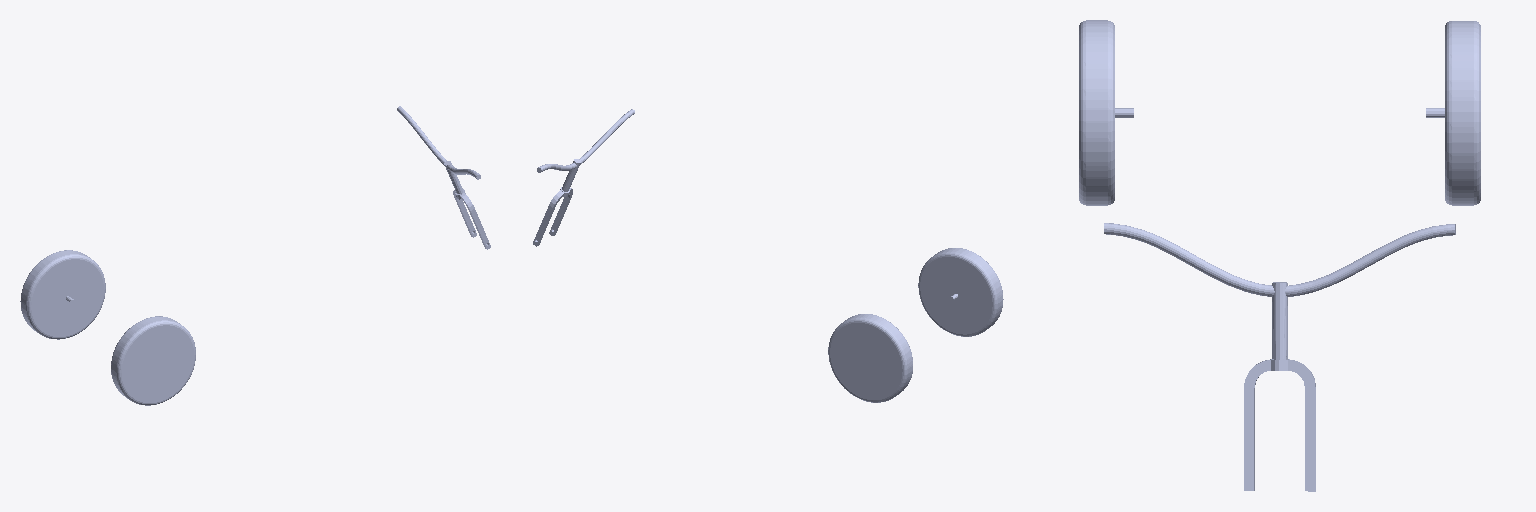
The robot description file, URDF, robot "Assembly_of_rickshaw":
<?xml version="1.0" encoding="utf-8"?>
<!-- This URDF was automatically created by SolidWorks to URDF Exporter! Originally created by [author] ([email redacted]) 
     Commit Version: 1.6.0-1-g15f4949  Build Version: 1.6.7594.29634
     For more information, please see http://wiki.ros.org/sw_urdf_exporter -->
<robot
  name="Assembly_of_rickshaw">
  <link
    name="Chassis">
    <inertial>
      <origin
        xyz="0.0179015432099166 0.00883157016107548 0.555493054780107"
        rpy="0 0 0" />
      <mass
        value="5.94108220023936" />
      <inertia
        ixx="2.86961489353881"
        ixy="-3.21160082509927E-06"
        ixz="-0.289647829977624"
        iyy="3.52332660507633"
        iyz="1.34393979355656E-06"
        izz="1.34842872812582" />
    </inertial>
    <visual>
      <origin
        xyz="0 0 0"
        rpy="0 0 0" />
      <geometry>
        <mesh
          filename="package://Assembly_of_rickshaw/meshes/Chassis.STL" />
      </geometry>
      <material
        name="">
        <color
          rgba="0.792156862745098 0.819607843137255 0.933333333333333 1" />
      </material>
    </visual>
    <collision>
      <origin
        xyz="0 0 0"
        rpy="0 0 0" />
      <geometry>
        <mesh
          filename="package://Assembly_of_rickshaw/meshes/Chassis.STL" />
      </geometry>
    </collision>
  </link>
  <link
    name="Fork">
    <inertial>
      <origin
        xyz="-8.17522745055754E-08 -1.28205918586699E-05 0.384873519969362"
        rpy="0 0 0" />
      <mass
        value="1.53594277272077" />
      <inertia
        ixx="0.114922939125292"
        ixy="-3.60131546823378E-08"
        ixz="3.41082460689732E-08"
        iyy="0.063659112873893"
        iyz="1.2245690536632E-06"
        izz="0.0514845803045497" />
    </inertial>
    <visual>
      <origin
        xyz="0 0 0"
        rpy="0 0 0" />
      <geometry>
        <mesh
          filename="package://Assembly_of_rickshaw/meshes/Fork.STL" />
      </geometry>
      <material
        name="">
        <color
          rgba="0.792156862745098 0.819607843137255 0.933333333333333 1" />
      </material>
    </visual>
    <collision>
      <origin
        xyz="0 0 0"
        rpy="0 0 0" />
      <geometry>
        <mesh
          filename="package://Assembly_of_rickshaw/meshes/Fork.STL" />
      </geometry>
    </collision>
  </link>
  <joint
    name="Fork_joint"
    type="continuous">
    <origin
      xyz="1.21005005042187 0.00883090850402383 -0.18955344944057"
      rpy="0.0208324376805739 -0.383434898651884 -0.0556361840402595" />
    <parent
      link="Chassis" />
    <child
      link="Fork" />
    <axis
      xyz="0 0 1" />
  </joint>
  <link
    name="Front_wheel">
    <inertial>
      <origin
        xyz="-1.55431223447522E-15 1.2490009027033E-15 -0.00162499999999997"
        rpy="0 0 0" />
      <mass
        value="17.1808091995759" />
      <inertia
        ixx="0.259198802825552"
        ixy="-3.3881317890172E-19"
        ixz="6.07153216591882E-18"
        iyy="0.259198802825552"
        iyz="6.59194920871187E-17"
        izz="0.492901062488341" />
    </inertial>
    <visual>
      <origin
        xyz="0 0 0"
        rpy="0 0 0" />
      <geometry>
        <mesh
          filename="package://Assembly_of_rickshaw/meshes/Front_wheel.STL" />
      </geometry>
      <material
        name="">
        <color
          rgba="0.792156862745098 0.819607843137255 0.933333333333333 1" />
      </material>
    </visual>
    <collision>
      <origin
        xyz="0 0 0"
        rpy="0 0 0" />
      <geometry>
        <mesh
          filename="package://Assembly_of_rickshaw/meshes/Front_wheel.STL" />
      </geometry>
    </collision>
  </link>
  <joint
    name="Front_wheel_joint"
    type="continuous">
    <origin
      xyz="0 0 0"
      rpy="1.5707963267949 -0.393234835424218 3.14159265358979" />
    <parent
      link="Fork" />
    <child
      link="Front_wheel" />
    <axis
      xyz="0 0 1" />
  </joint>
  <link
    name="Rear_wheel_1">
    <inertial>
      <origin
        xyz="0 0 -0.000103679096847109"
        rpy="0 0 0" />
      <mass
        value="17.1923341322256" />
      <inertia
        ixx="0.259279784775858"
        ixy="0"
        ixz="2.49126071873759E-19"
        iyy="0.259279784775858"
        iyz="2.14595267342508E-19"
        izz="0.492902563364008" />
    </inertial>
    <visual>
      <origin
        xyz="0 0 0"
        rpy="0 0 0" />
      <geometry>
        <mesh
          filename="package://Assembly_of_rickshaw/meshes/Rear_wheel_1.STL" />
      </geometry>
      <material
        name="">
        <color
          rgba="0.792156862745098 0.819607843137255 0.933333333333333 1" />
      </material>
    </visual>
    <collision>
      <origin
        xyz="0 0 0"
        rpy="0 0 0" />
      <geometry>
        <mesh
          filename="package://Assembly_of_rickshaw/meshes/Rear_wheel_1.STL" />
      </geometry>
    </collision>
  </link>
  <joint
    name="Rear_wheel_1_joint"
    type="continuous">
    <origin
      xyz="-1.05040375431683 -0.467894091495976 -0.189915295409822"
      rpy="1.5707963267949 0.711070783946853 0" />
    <parent
      link="Chassis" />
    <child
      link="Rear_wheel_1" />
    <axis
      xyz="0 0 1" />
  </joint>
  <link
    name="Rear_wheel_2">
    <inertial>
      <origin
        xyz="0 0 -0.000103679096847109"
        rpy="0 0 0" />
      <mass
        value="17.1923341322256" />
      <inertia
        ixx="0.259279784775858"
        ixy="-1.66063671354125E-17"
        ixz="-5.46826310106561E-20"
        iyy="0.259279784775858"
        iyz="-1.25669343412388E-18"
        izz="0.492902563364008" />
    </inertial>
    <visual>
      <origin
        xyz="0 0 0"
        rpy="0 0 0" />
      <geometry>
        <mesh
          filename="package://Assembly_of_rickshaw/meshes/Rear_wheel_2.STL" />
      </geometry>
      <material
        name="">
        <color
          rgba="0.792156862745098 0.819607843137255 0.933333333333333 1" />
      </material>
    </visual>
    <collision>
      <origin
        xyz="0 0 0"
        rpy="0 0 0" />
      <geometry>
        <mesh
          filename="package://Assembly_of_rickshaw/meshes/Rear_wheel_2.STL" />
      </geometry>
    </collision>
  </link>
  <joint
    name="Rear_wheel_2_joint"
    type="continuous">
    <origin
      xyz="-1.05040375431683 0.485555908504024 -0.189915295409822"
      rpy="1.5707963267949 0 3.14159265358979" />
    <parent
      link="Chassis" />
    <child
      link="Rear_wheel_2" />
    <axis
      xyz="0 0 1" />
  </joint>
</robot>

--- What the picture shows (computed from the rendered views, not written in the file) ---
The picture shows the robot from 3 angles, left to right: view 1: azimuth 30°, elevation 25°; view 2: azimuth 150°, elevation 25°; view 3: azimuth 270°, elevation 25°; orthographic projection.
Model Assembly_of_rickshaw with 5 links and 4 joints (4 continuous), rooted at Chassis, posed all joints at 0.
Links seen in each view (by area): view 1: Rear_wheel_1, Rear_wheel_2, Fork; view 2: Rear_wheel_1, Rear_wheel_2, Fork; view 3: Fork, Rear_wheel_1, Rear_wheel_2.
Link boxes in pixels (left/top/right/bottom): Rear_wheel_1: left=111, top=316, right=195, bottom=405; Rear_wheel_2: left=20, top=250, right=105, bottom=339; Fork: left=397, top=106, right=490, bottom=249; Rear_wheel_1: left=918, top=248, right=1003, bottom=336; Rear_wheel_2: left=828, top=314, right=912, bottom=402; Fork: left=533, top=109, right=634, bottom=246; Fork: left=1104, top=223, right=1455, bottom=491; Rear_wheel_1: left=1079, top=20, right=1133, bottom=205; Rear_wheel_2: left=1426, top=21, right=1480, bottom=205.
Bounding box of the posed robot: 2.53 × 1.05 × 0.8711 m (x, y, z).
Meshes: 5 distinct files referenced, 3 mesh visuals loaded (3 binary STL); not drawn: 2 (reference not matched to a file when rendering).